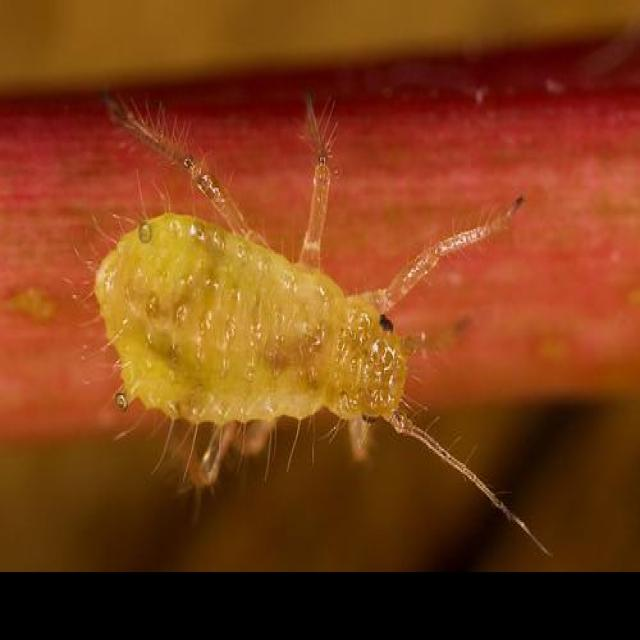Aphids: (84, 129, 518, 511)
